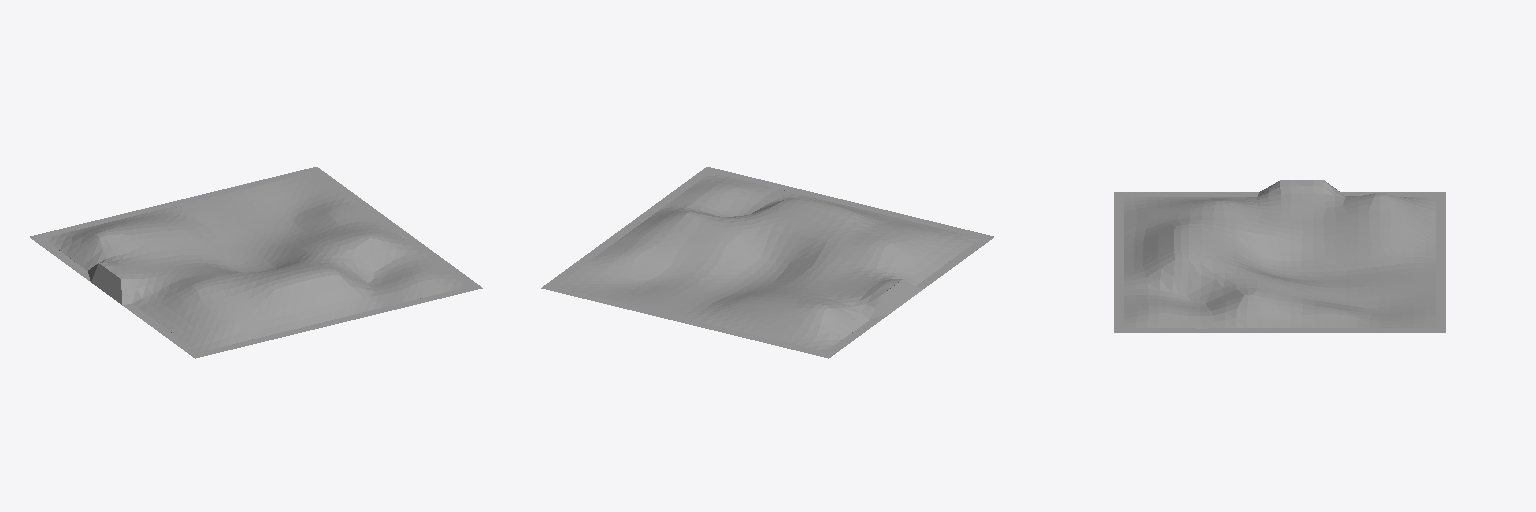
File: GroundTiles_Hills.obj
The picture shows the model from 3 angles: view 1: azimuth 30°, elevation 25°; view 2: azimuth 150°, elevation 25°; view 3: azimuth 270°, elevation 25°; orthographic projection.
Visible parts, largest first — view 1: BaseGroundTile.Hills_Cube.001; view 2: BaseGroundTile.Hills_Cube.001; view 3: BaseGroundTile.Hills_Cube.001.
Part boxes in pixels (left/top/right/bottom): BaseGroundTile.Hills_Cube.001: left=30, top=167, right=482, bottom=358; BaseGroundTile.Hills_Cube.001: left=541, top=167, right=993, bottom=358; BaseGroundTile.Hills_Cube.001: left=1114, top=180, right=1445, bottom=332.
Bounding box in the file's own units: 20 × 2.14 × 20.